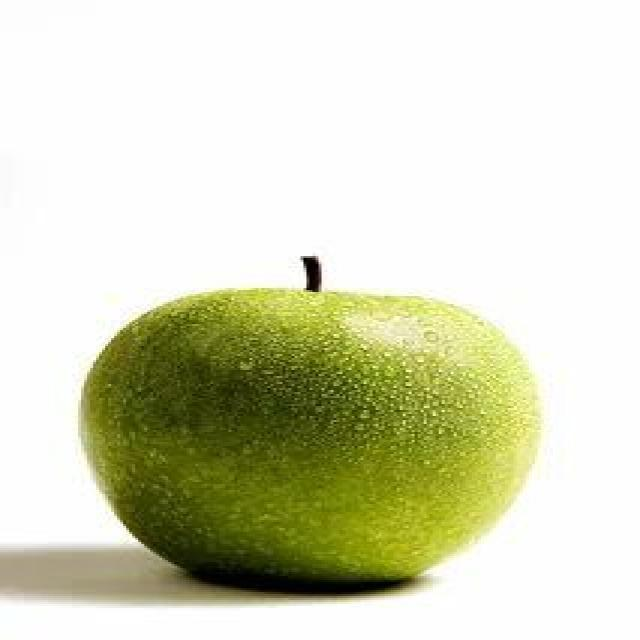Fresh Apple: (92, 283, 553, 597)
